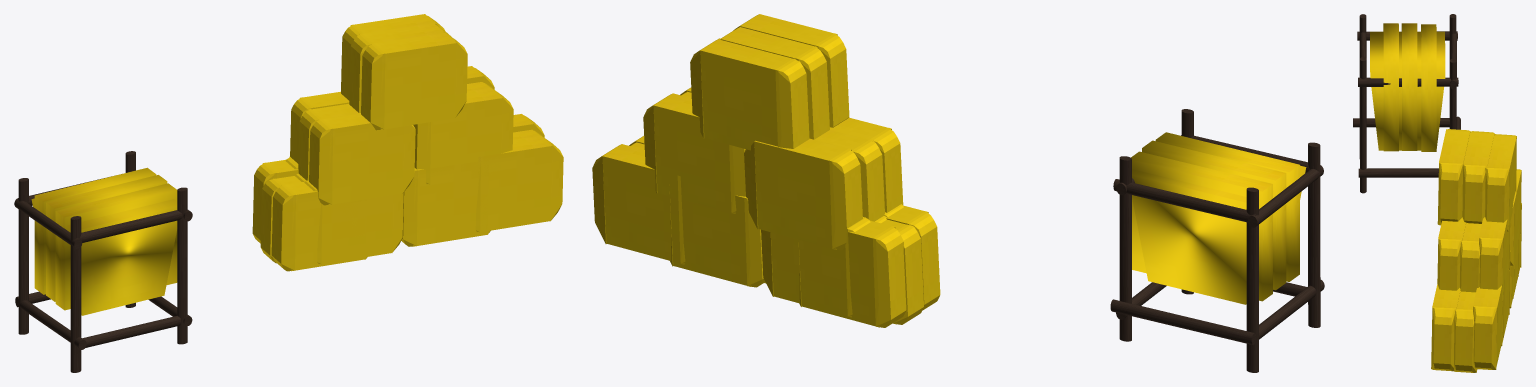
The model's file is pagkaon sa hayup.fbx.
3 views of the same model, side by side, from view 1: azimuth 30°, elevation 25°; view 2: azimuth 150°, elevation 25°; view 3: azimuth 270°, elevation 25° (orthographic). The views are drawn at different scales.
Parts seen in each view (by area): view 1: dry grass, box with dy grass; view 2: dry grass, box with dy grass; view 3: dry grass, box with dy grass.
Boxes of the visible parts, bbox=[...] form: dry grass: bbox=[252, 14, 563, 271]; box with dy grass: bbox=[14, 151, 192, 372]; dry grass: bbox=[592, 14, 940, 327]; box with dy grass: bbox=[1110, 109, 1324, 372]; dry grass: bbox=[1431, 129, 1521, 372]; box with dy grass: bbox=[1353, 14, 1460, 193].
Size of the model in its own units: 31.04 by 11.21 by 9.69.
